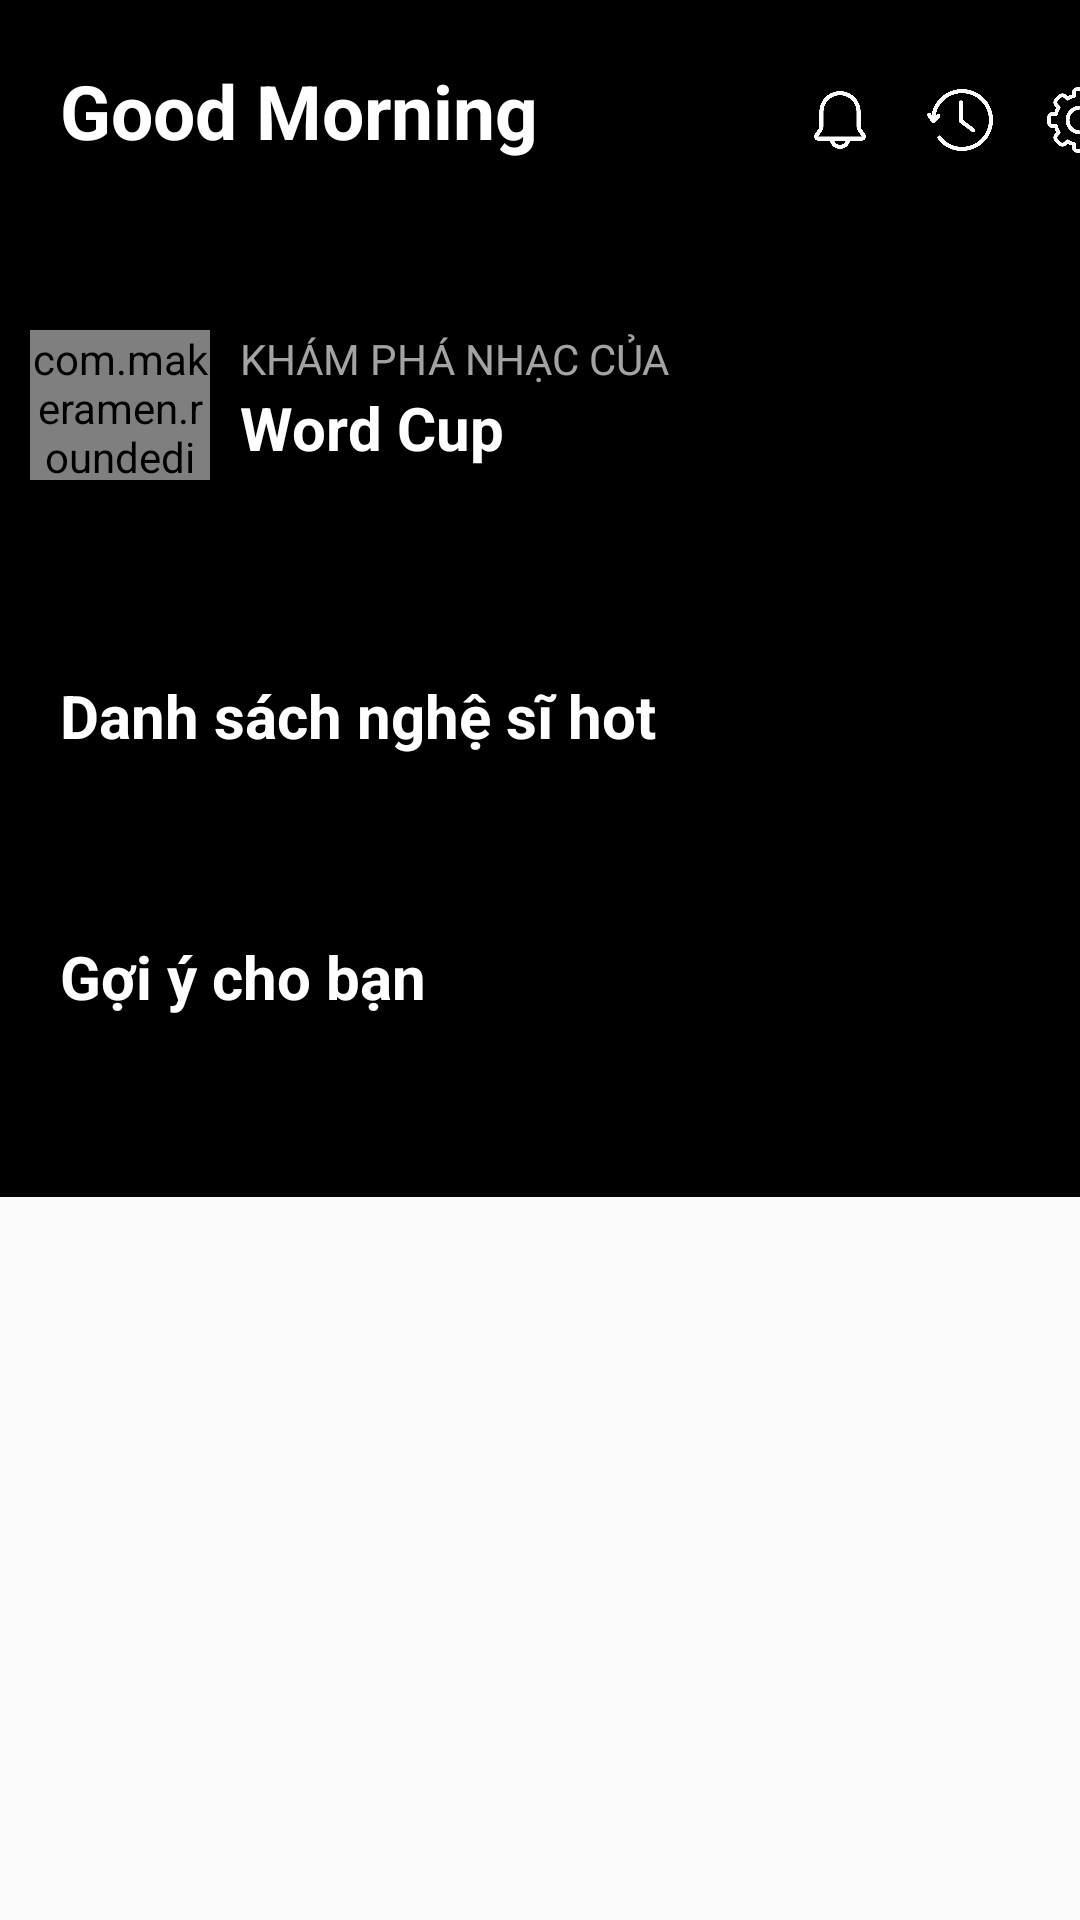

Icon click points for this 1080 × 1920 phone screenshot, format (x=x, y=y):
bell: (x=840, y=120)
history: (x=960, y=120)
